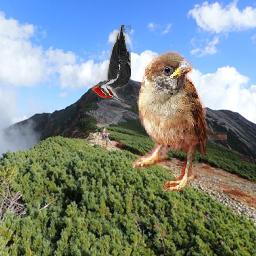Sparrow: (130, 51, 228, 192)
Woodpecker: (93, 26, 132, 103)
